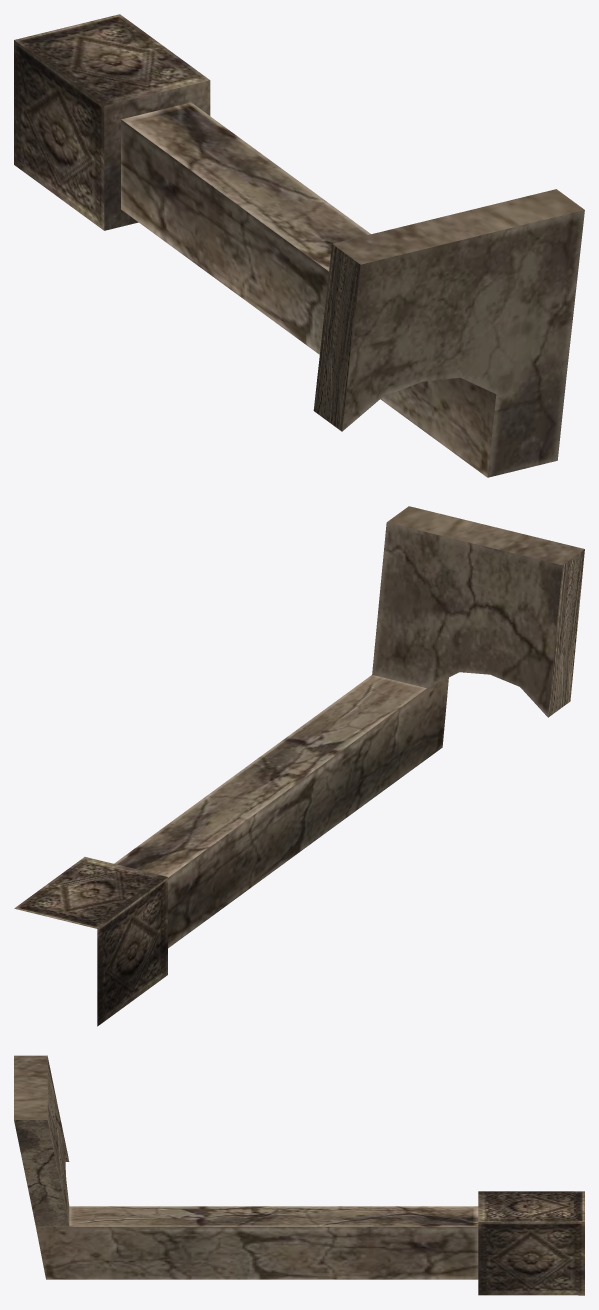
The picture shows the model from 3 angles, top to bottom: view 1: azimuth 30°, elevation 25°; view 2: azimuth 150°, elevation 25°; view 3: azimuth 270°, elevation 25°; orthographic projection. The views are drawn at different scales.
Visible parts, largest first — view 1: model_Object08; view 2: model_Object08; view 3: model_Object08.
Boxes of the visible parts, <box> form: model_Object08: <box>14,14,584,477</box>; model_Object08: <box>14,506,584,1026</box>; model_Object08: <box>14,1055,584,1295</box>.
Size of the model in its own units: 0.9049 by 1.02 by 3.12.
1 material, 1 textured.
